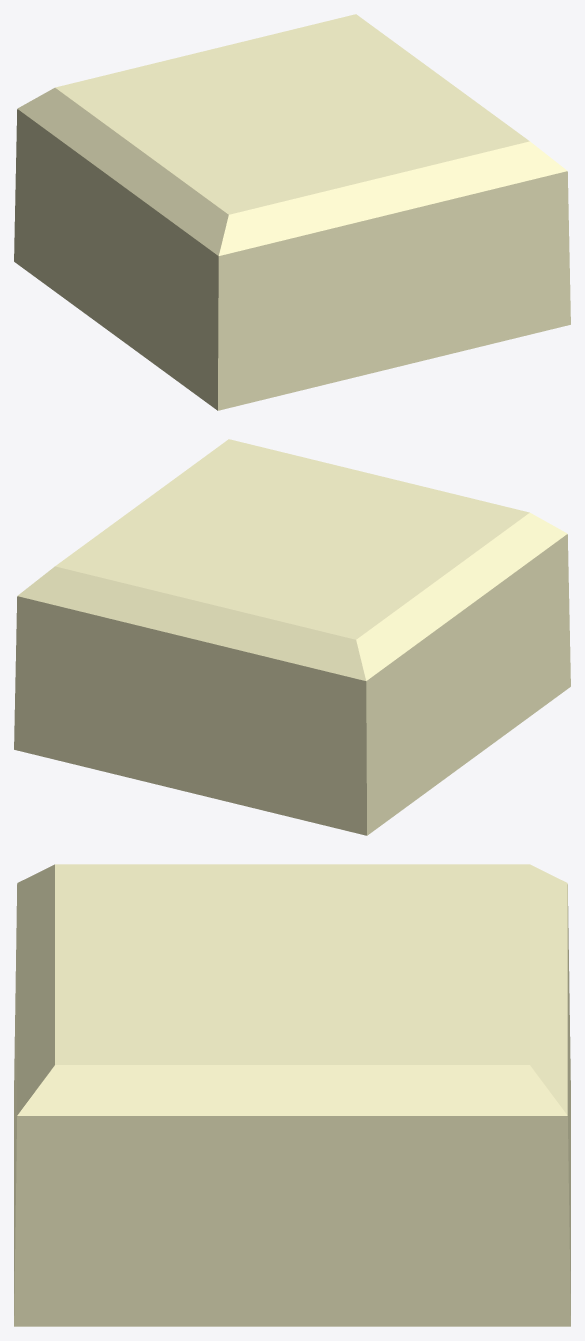
The model's file is field.gltf.
3 renders of one model, top to bottom at view 1: azimuth 30°, elevation 25°; view 2: azimuth 150°, elevation 25°; view 3: azimuth 270°, elevation 25°, orthographic. The views are drawn at different scales.
Parts seen in each view (by area): view 1: Cube; view 2: Cube; view 3: Cube.
Boxes of the visible parts, <box> form: Cube: <box>14,14,570,410</box>; Cube: <box>14,439,570,835</box>; Cube: <box>14,864,570,1326</box>.
Bounding box in the file's own units: 8 × 3.87 × 8.
